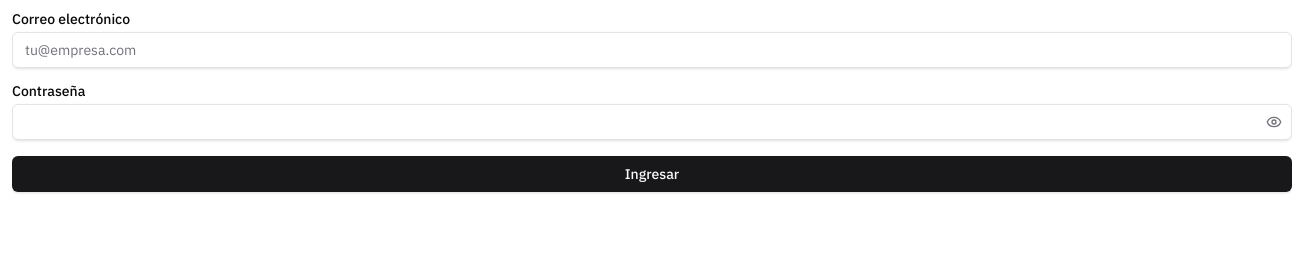
Test case: LoginForm — credentials step › shows validation error for invalid email
The width and height of the screenshot is (1304, 254).
In the field labelled "Correo electrónico": (652, 50) [12, 32, 1292, 68], type "not-an-email"
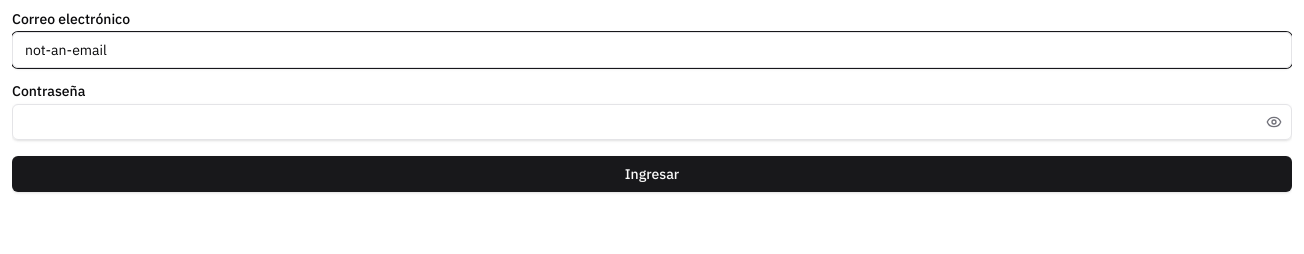
Press Tab
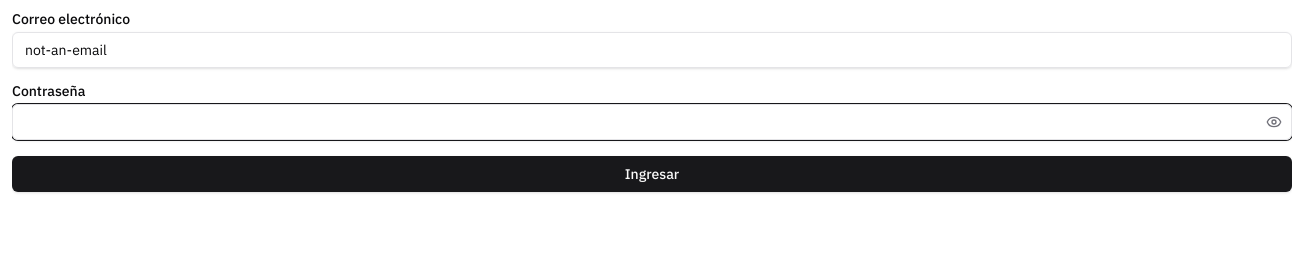
Click the button "Ingresar": (652, 174) [12, 156, 1292, 192]
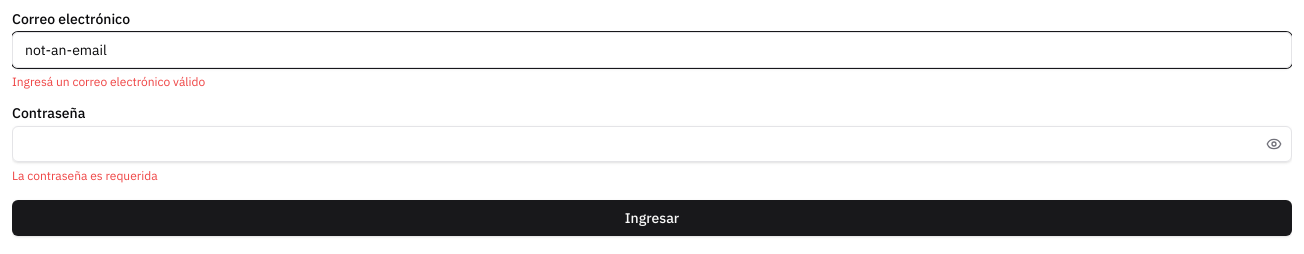
Now the text "Ingresá un correo electrónico válido" is shown, box [12, 74, 205, 89]
